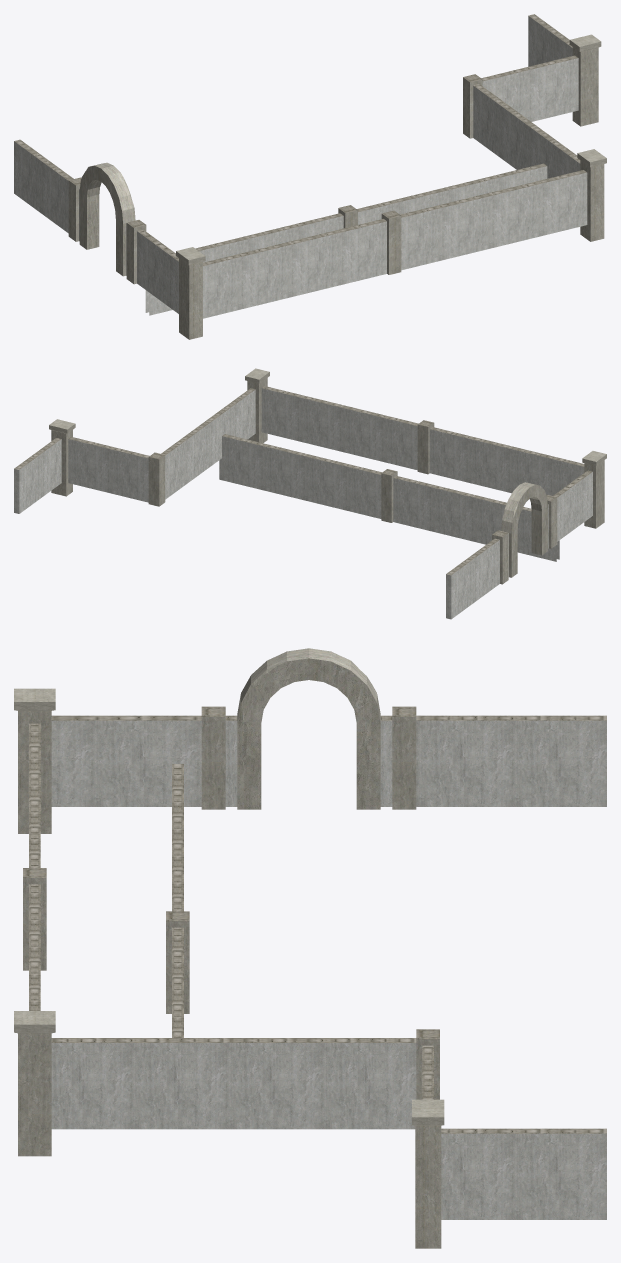
Rendered from poi_corl_corral_half_64x64_s03_l0.fbx.
3 views of the same model, one above another, from view 1: azimuth 30°, elevation 25°; view 2: azimuth 150°, elevation 25°; view 3: azimuth 270°, elevation 25° (orthographic). The views are drawn at different scales.
Parts seen in each view (by area): view 1: mesh_node; view 2: mesh_node; view 3: mesh_node.
Boxes of the visible parts, x1=… form: mesh_node: x1=14, y1=14, x2=606, y2=339; mesh_node: x1=14, y1=368, x2=606, y2=619; mesh_node: x1=14, y1=648, x2=606, y2=1248.
Size of the model in its own units: 42.55 by 9 by 24.87.
